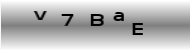7: (59, 13, 74, 26)
B: (89, 12, 104, 26)
E: (132, 22, 144, 36)
a: (112, 11, 125, 22)
v: (33, 10, 47, 20)
